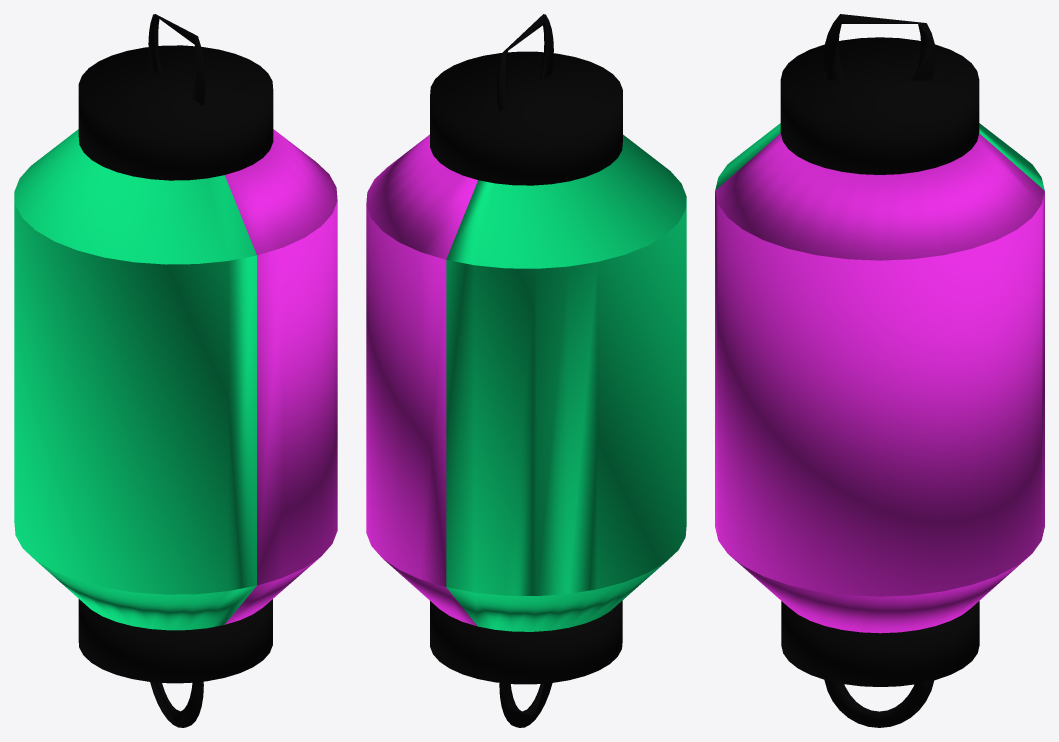
3 views of the same model, side by side, from view 1: azimuth 30°, elevation 25°; view 2: azimuth 150°, elevation 25°; view 3: azimuth 270°, elevation 25° (orthographic). The views are drawn at different scales.
Parts seen in each view (by area): view 1: 上蓋.003, 上蓋.002, 上蓋, 上蓋.001, 上取っ手, 上取っ手.001; view 2: 上蓋.003, 上蓋.002, 上蓋, 上蓋.001, 上取っ手, 上取っ手.001; view 3: 上蓋.002, 上蓋, 上蓋.001, 上取っ手, 上取っ手.001, 上蓋.003.
Part boxes in pixels (bbox=[...]): 上蓋.003: bbox=[14, 129, 256, 630]; 上蓋.002: bbox=[225, 129, 337, 624]; 上蓋: bbox=[78, 45, 273, 180]; 上蓋.001: bbox=[78, 599, 272, 683]; 上取っ手: bbox=[148, 14, 205, 104]; 上取っ手.001: bbox=[150, 681, 203, 727]; 上蓋.003: bbox=[446, 134, 686, 631]; 上蓋.002: bbox=[366, 134, 477, 626]; 上蓋: bbox=[430, 51, 622, 185]; 上蓋.001: bbox=[430, 600, 622, 684]; 上取っ手: bbox=[496, 14, 553, 110]; 上取っ手.001: bbox=[499, 683, 552, 727]; 上蓋.002: bbox=[715, 133, 1044, 633]; 上蓋: bbox=[780, 37, 979, 174]; 上蓋.001: bbox=[781, 601, 979, 686]; 上取っ手: bbox=[823, 14, 935, 80]; 上取っ手.001: bbox=[824, 680, 934, 727]; 上蓋.003: bbox=[715, 123, 1044, 190].
Size of the model in its own units: 199 by 477 by 199.
